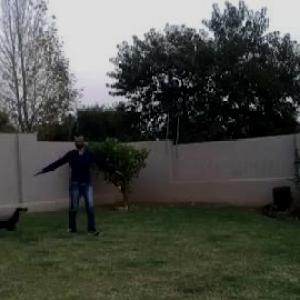land: (41, 130, 122, 227)
